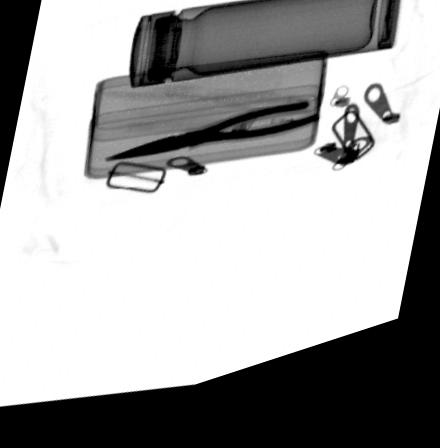Pliers: (104, 118, 320, 167)
